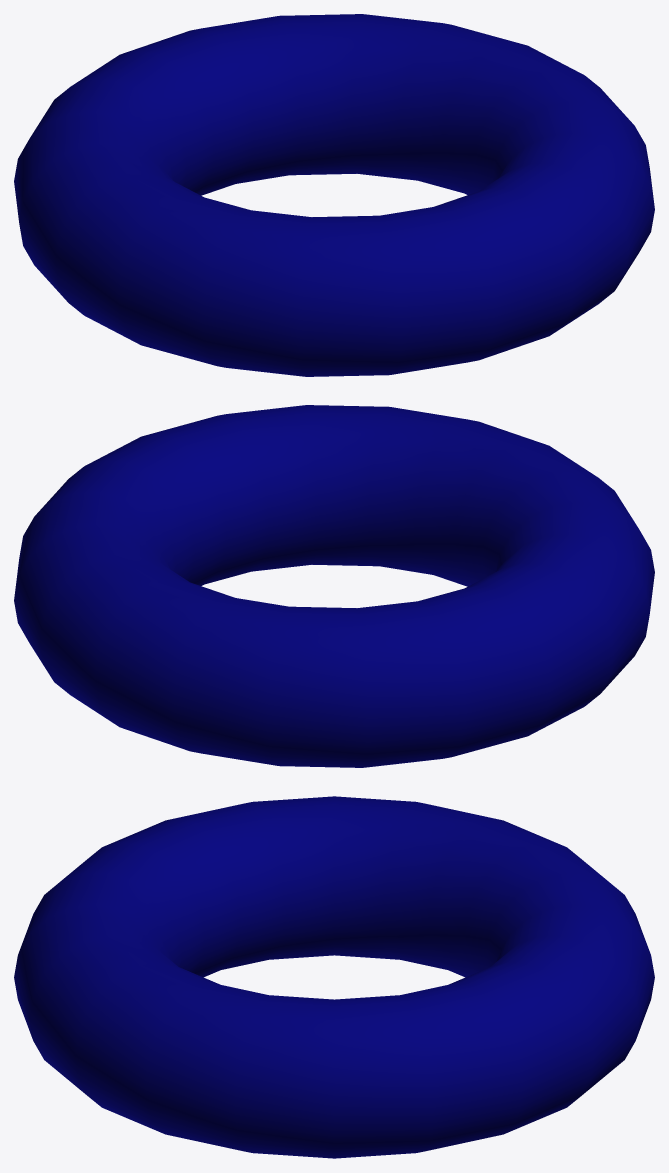
The model's file is Protein.fbx.
3 views of the same model, one above another, from view 1: azimuth 30°, elevation 25°; view 2: azimuth 150°, elevation 25°; view 3: azimuth 270°, elevation 25° (orthographic).
Parts seen in each view (by area): view 1: pTorus1; view 2: pTorus1; view 3: pTorus1.
Boxes of the visible parts, box(x1,y1,x2,y2) form: pTorus1: box(14, 14, 654, 376); pTorus1: box(14, 405, 654, 767); pTorus1: box(14, 796, 654, 1158).
Bounding box in the file's own units: 2.41 × 0.6024 × 2.41.
